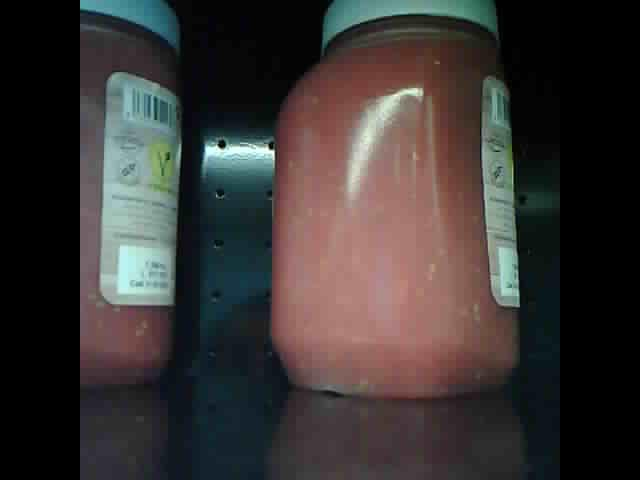tomate: (272, 3, 516, 398), (83, 2, 180, 391)
